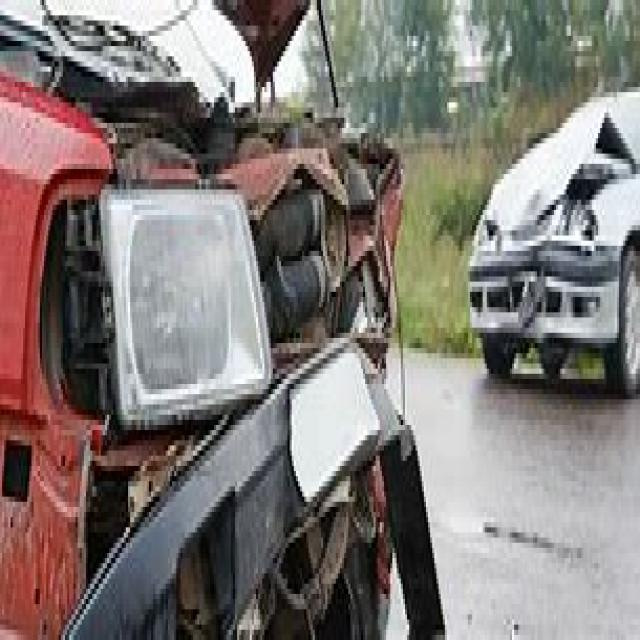multiple_accident: (0, 0, 442, 640), (463, 46, 640, 416)
